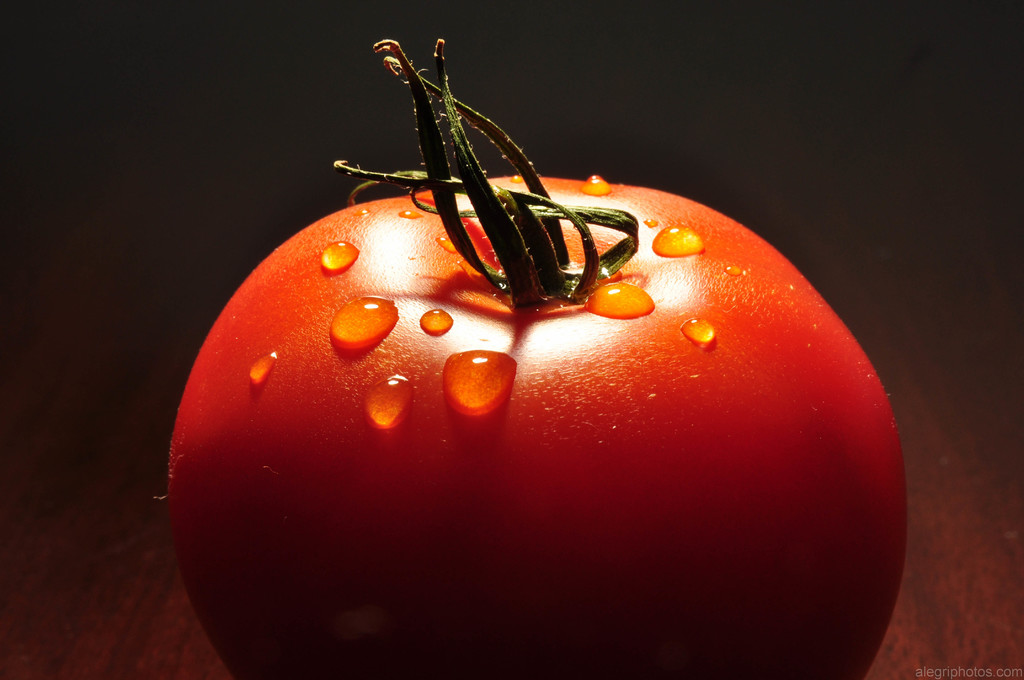Tomato: (161, 30, 912, 679)
